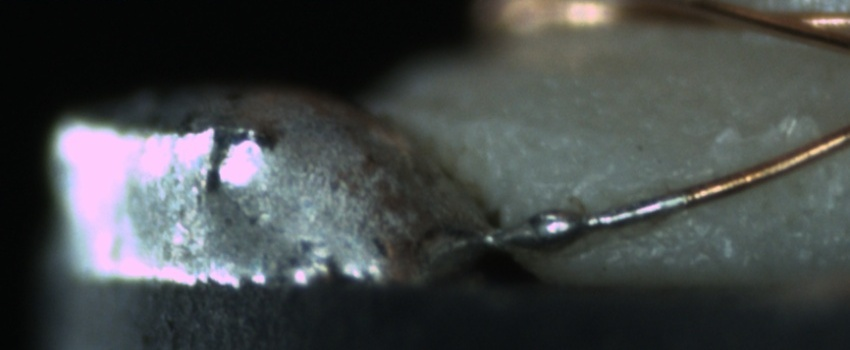TB: (516, 205, 589, 249)
TS: (490, 193, 688, 245)
TTCW: (482, 171, 745, 249)
